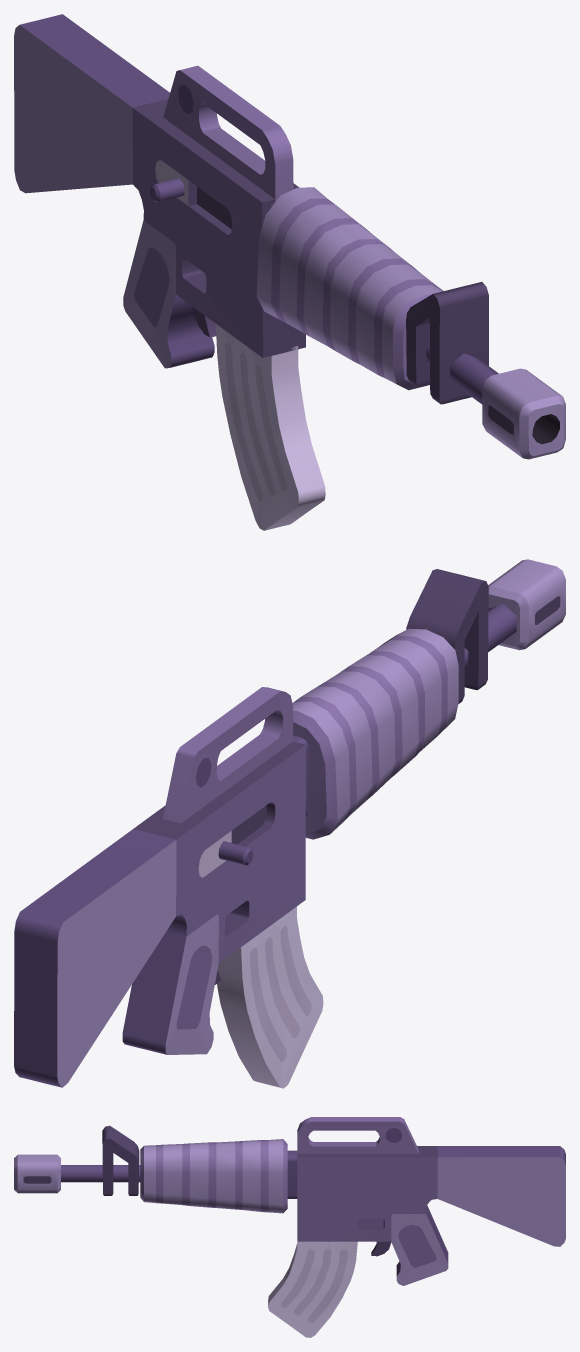
File: RIFLE.fbx
3 renders of one model, top to bottom at view 1: azimuth 30°, elevation 25°; view 2: azimuth 150°, elevation 25°; view 3: azimuth 270°, elevation 25°, orthographic. The views are drawn at different scales.
Parts seen in each view (by area): view 1: M4A1; view 2: M4A1; view 3: M4A1.
Boxes of the visible parts, x1,y1,x2,y2 form: M4A1: (14,14,565,530); M4A1: (14,559,565,1088); M4A1: (14,1117,565,1337).
Bounding box in the file's own units: 0.2967 × 1.26 × 2.94.
1 material, 1 textured.
